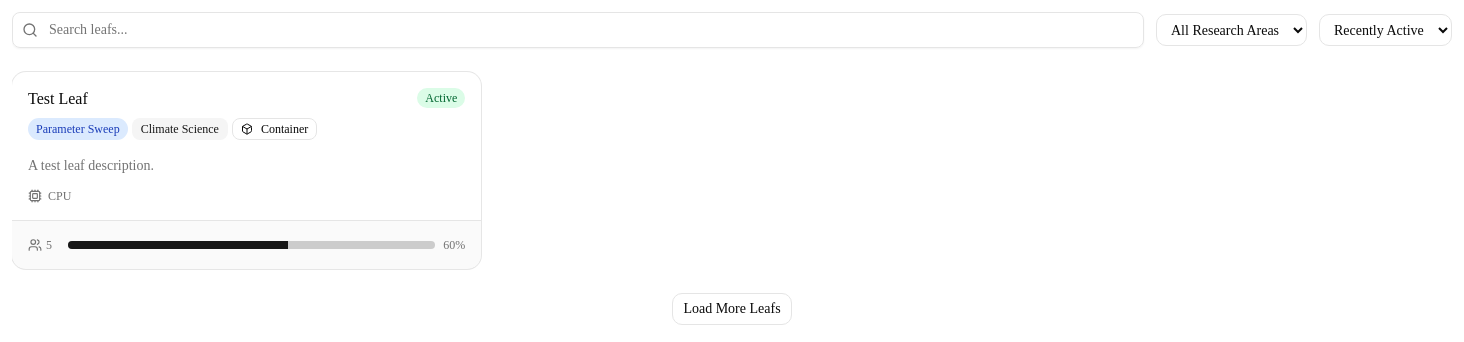
Test: ProjectBrowser › loads more leafs when Load More clicked
Click the button with test id "load-more-button" at (732, 309), box [672,293,792,325]
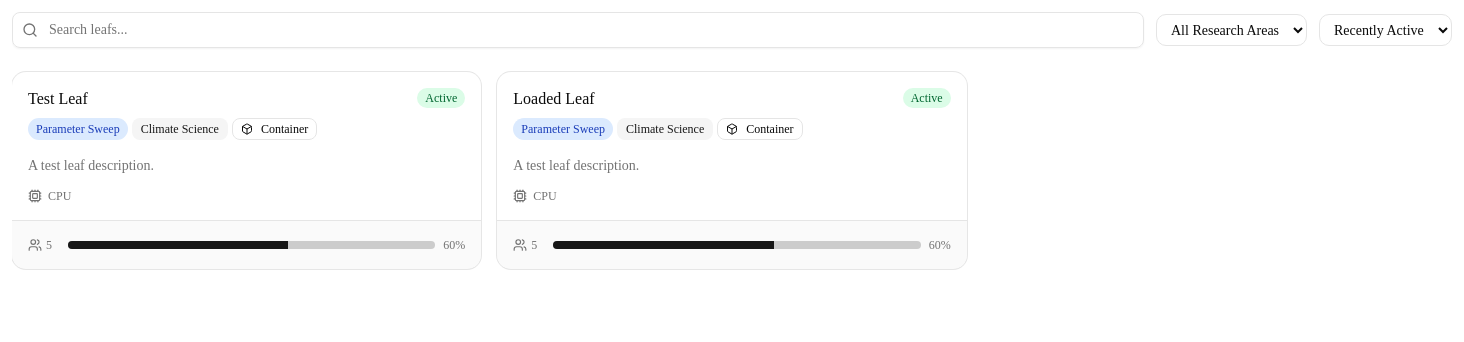
Check: the text "Loaded Leaf" is shown, box [513,88,595,110]
